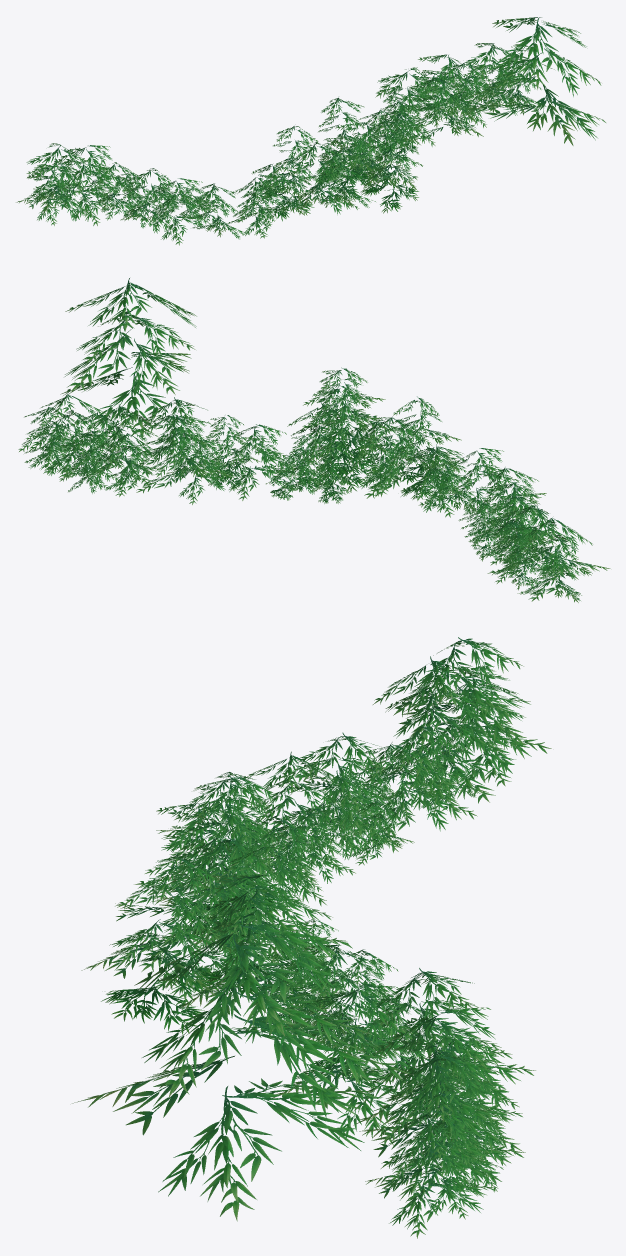
Rendered from Area_11_5.fbx.
3 renders of one model, top to bottom at view 1: azimuth 30°, elevation 25°; view 2: azimuth 150°, elevation 25°; view 3: azimuth 270°, elevation 25°, orthographic. The views are drawn at different scales.
Visible parts, largest first — view 1: Area_11_5; view 2: Area_11_5; view 3: Area_11_5.
Boxes of the visible parts, box(x1,y1,x2,y2) form: Area_11_5: box(16, 17, 605, 245); Area_11_5: box(18, 278, 610, 602); Area_11_5: box(72, 637, 551, 1238).
Bounding box in the file's own units: 10088 × 2607 × 4061.
